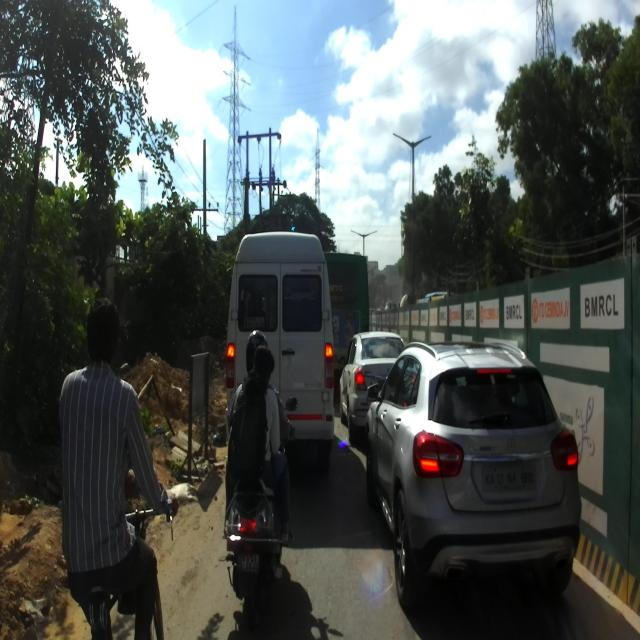Car_Maruti-Suzuki: (338, 331, 410, 445)
Car_Mercedes_Benz: (366, 341, 583, 613)
mini-bus: (226, 228, 333, 410)
scooter: (217, 395, 299, 630)
